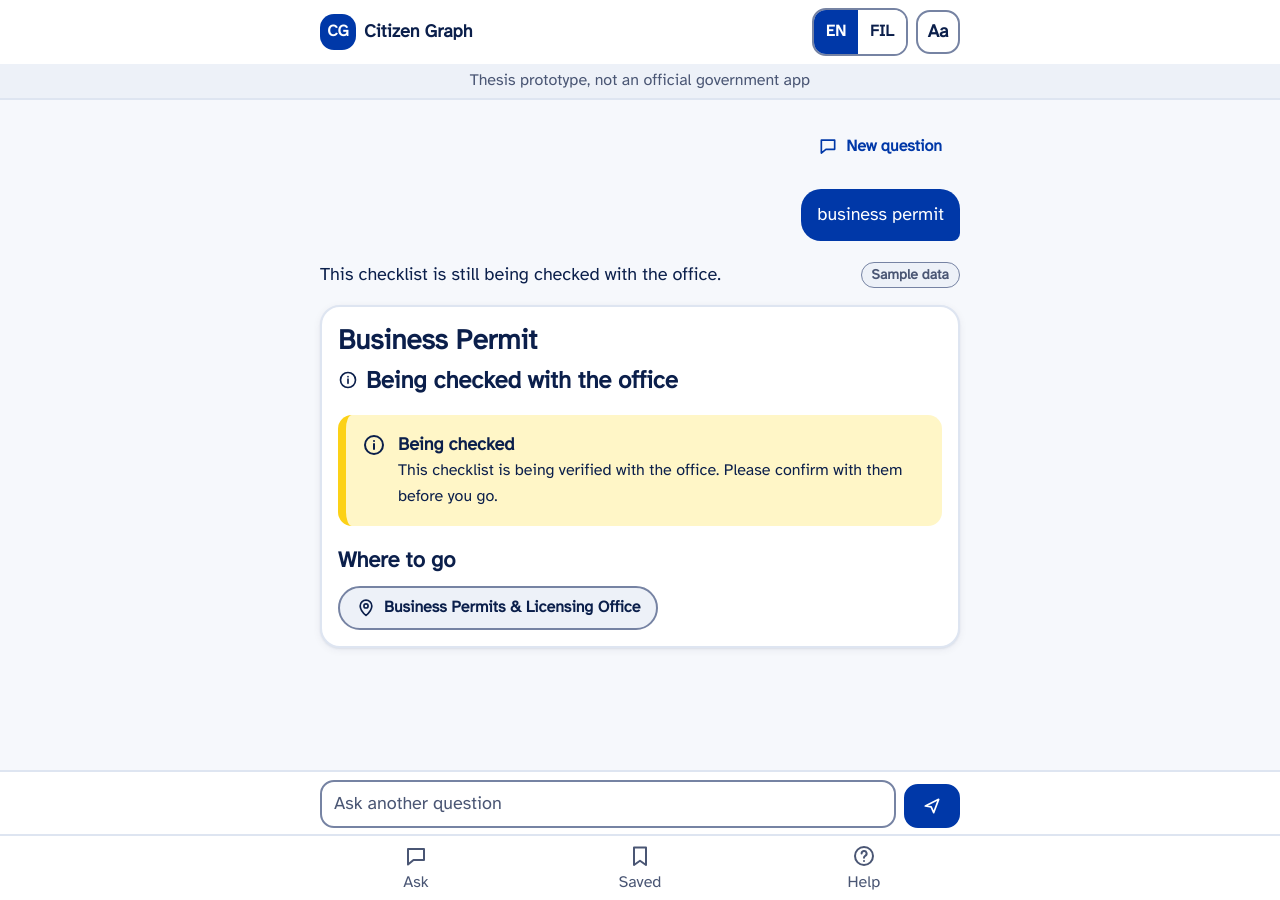
clarify and fallback flows › follow-up questions keep the session
expect the element "Business Permit" is shown: met, box top-left (320, 305), bottom-right (960, 648)
Type "sanitary permit" into the text box named "Your question" at x=608, y=804, box top-left (320, 780), bottom-right (896, 828)
Then press Enter
(page scrolled)
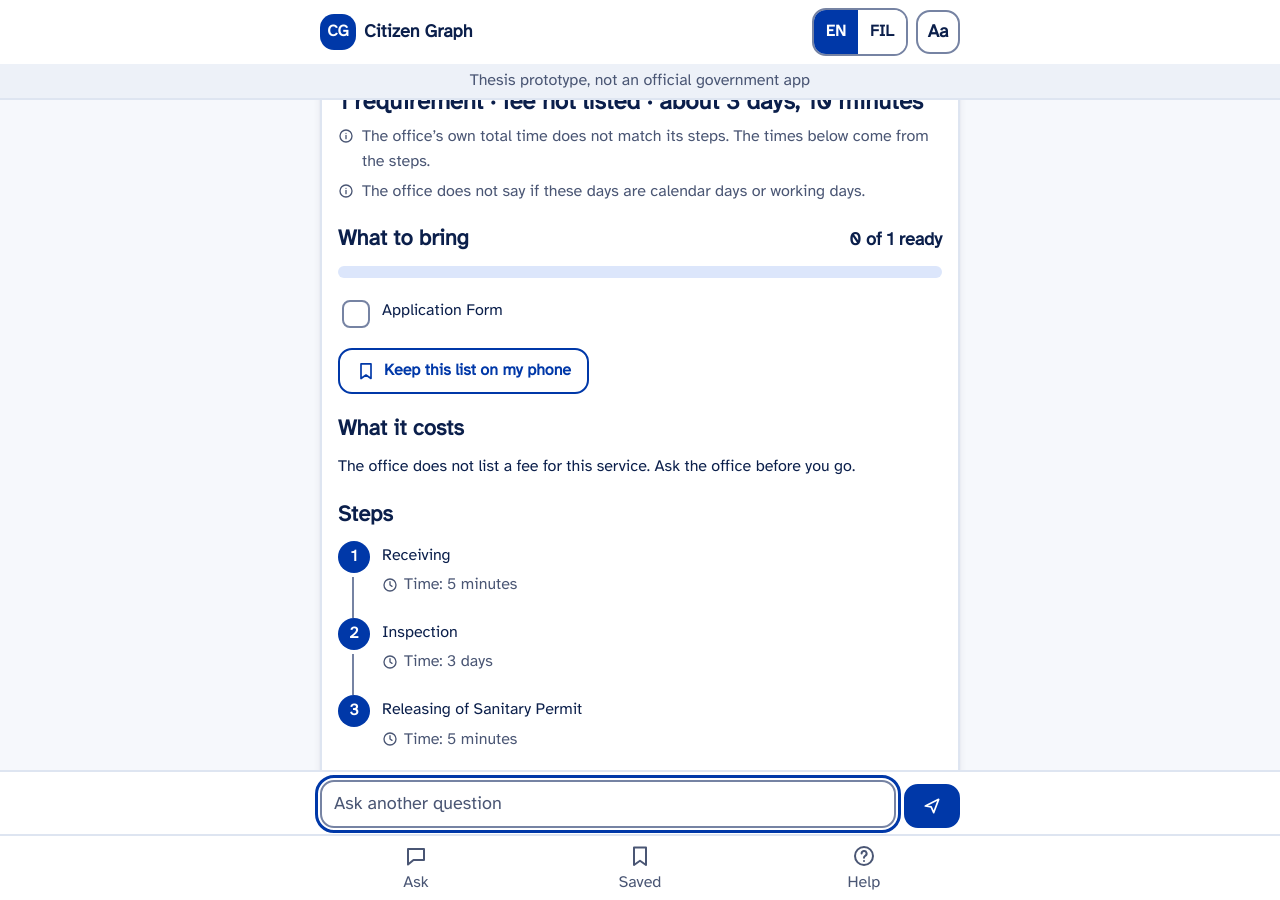
expect the element "Sanitary Permit" is shown: met, box top-left (320, 26), bottom-right (960, 875)
